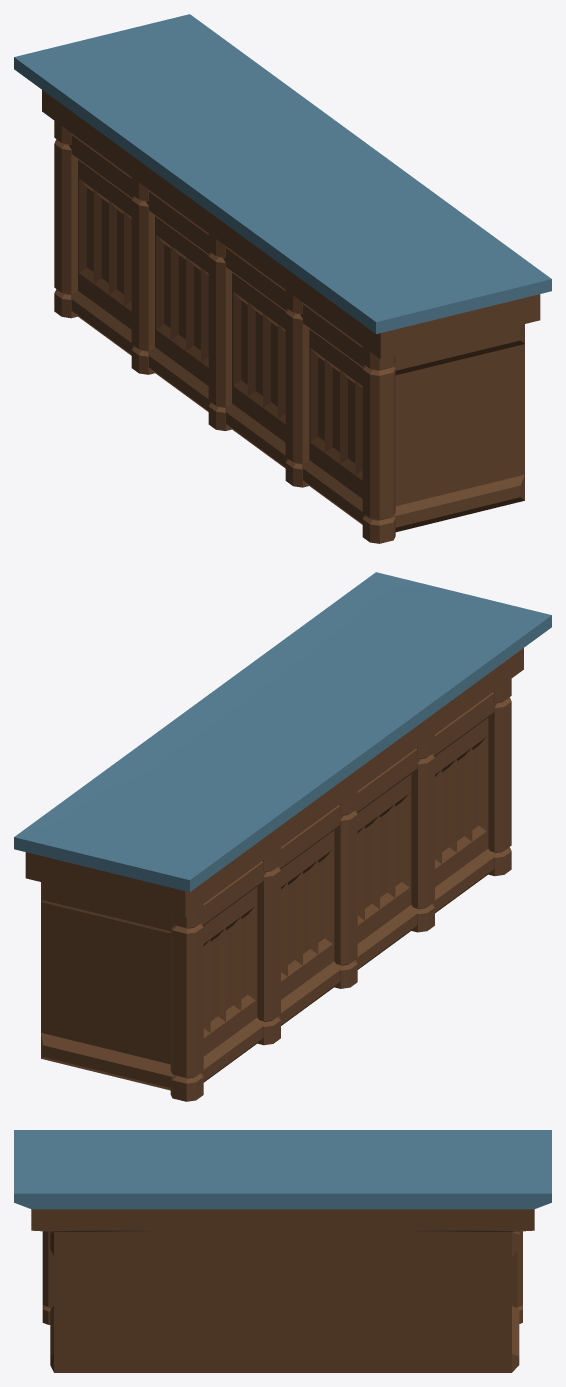
Rendered from ME_SP_SodaTable.fbx.
The picture shows the model from 3 angles, top to bottom: view 1: azimuth 30°, elevation 25°; view 2: azimuth 150°, elevation 25°; view 3: azimuth 270°, elevation 25°; orthographic projection. The views are drawn at different scales.
Parts seen in each view (by area): view 1: ME_SP_SodaTable; view 2: ME_SP_SodaTable; view 3: ME_SP_SodaTable.
Boxes of the visible parts, x1,y1,x2,y2 form: ME_SP_SodaTable: [14, 14, 551, 543]; ME_SP_SodaTable: [14, 572, 551, 1101]; ME_SP_SodaTable: [14, 1130, 551, 1372].
Size of the model in its own units: 8411 by 11039 by 29985.
